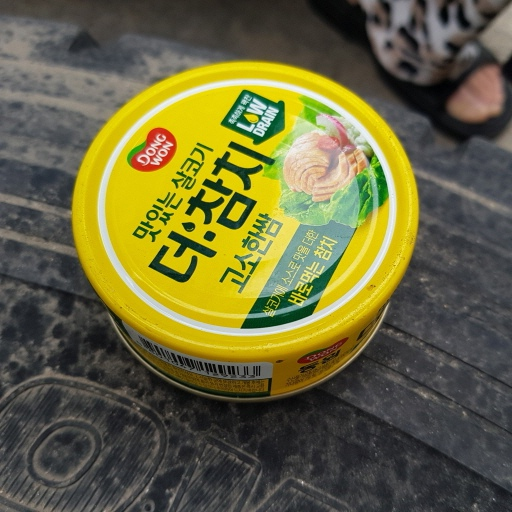Metal_1: (63, 60, 420, 400)
